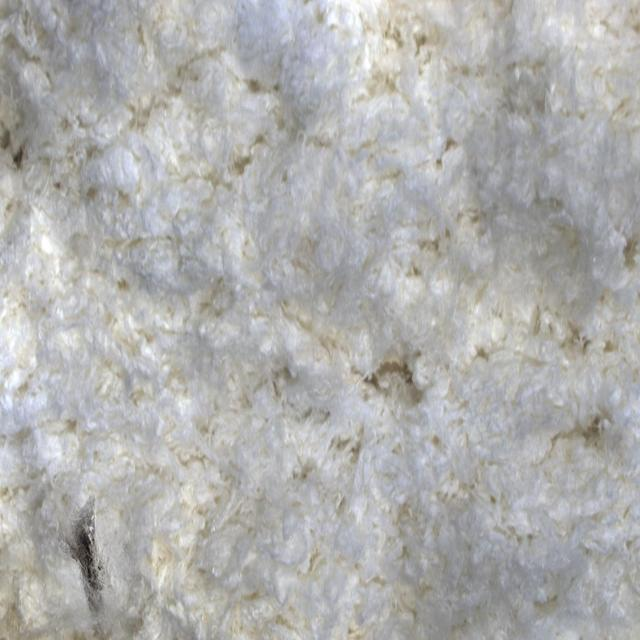dust: (23, 472, 148, 640)
